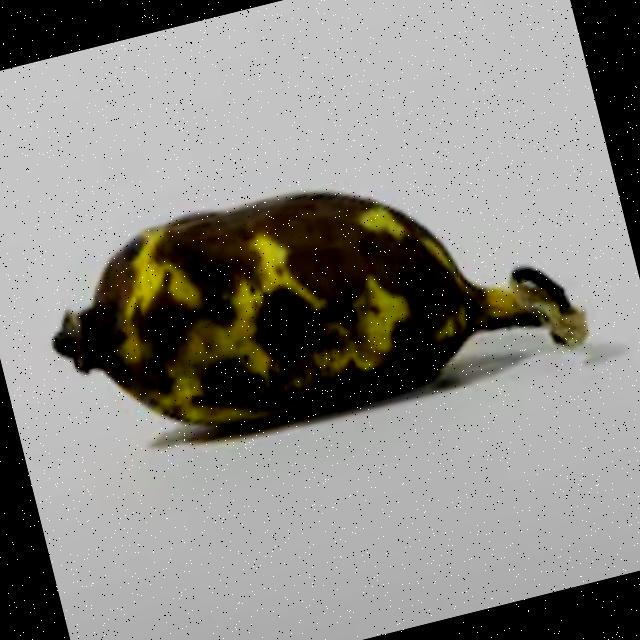Rotten: (7, 70, 607, 520)
